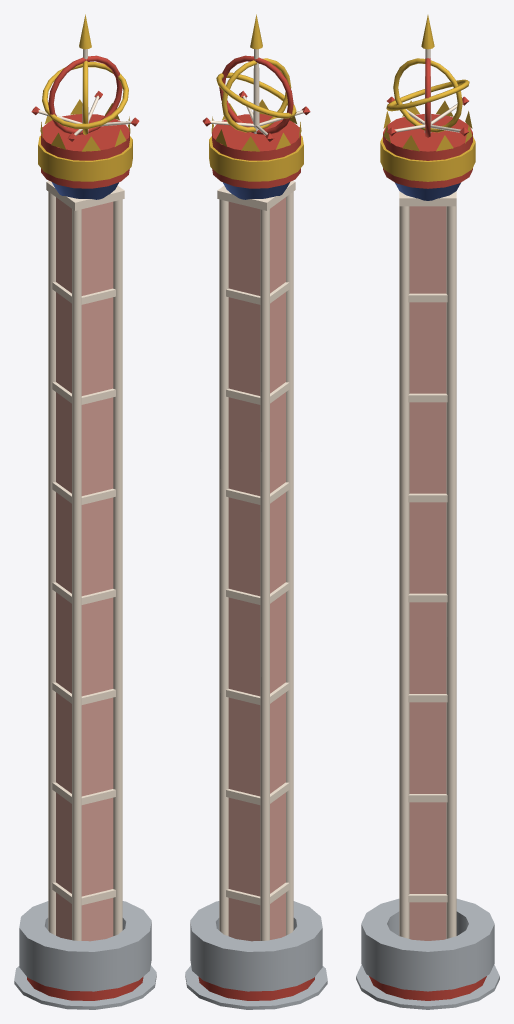
The model's file is nyc-astro-tower.glb.
3 renders of one model, left to right at view 1: azimuth 30°, elevation 25°; view 2: azimuth 150°, elevation 25°; view 3: azimuth 270°, elevation 25°, orthographic.
Visible parts, largest first — view 1: Astro Tower, gondola; view 2: Astro Tower, gondola; view 3: Astro Tower, gondola.
Boxes of the visible parts, x1=… form: Astro Tower: x1=31, y1=14, x2=139, y2=941; gondola: x1=14, y1=901, x2=156, y2=1009; Astro Tower: x1=202, y1=14, x2=310, y2=941; gondola: x1=185, y1=901, x2=327, y2=1009; Astro Tower: x1=380, y1=15, x2=475, y2=940; gondola: x1=356, y1=898, x2=499, y2=1009.
Bounding box in the file's own units: 5.6 × 42 × 5.6.
